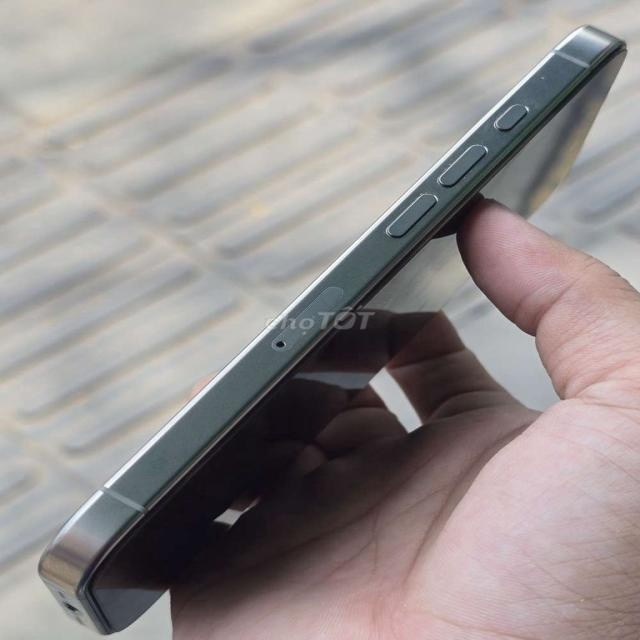scratch: (537, 72, 555, 83)
